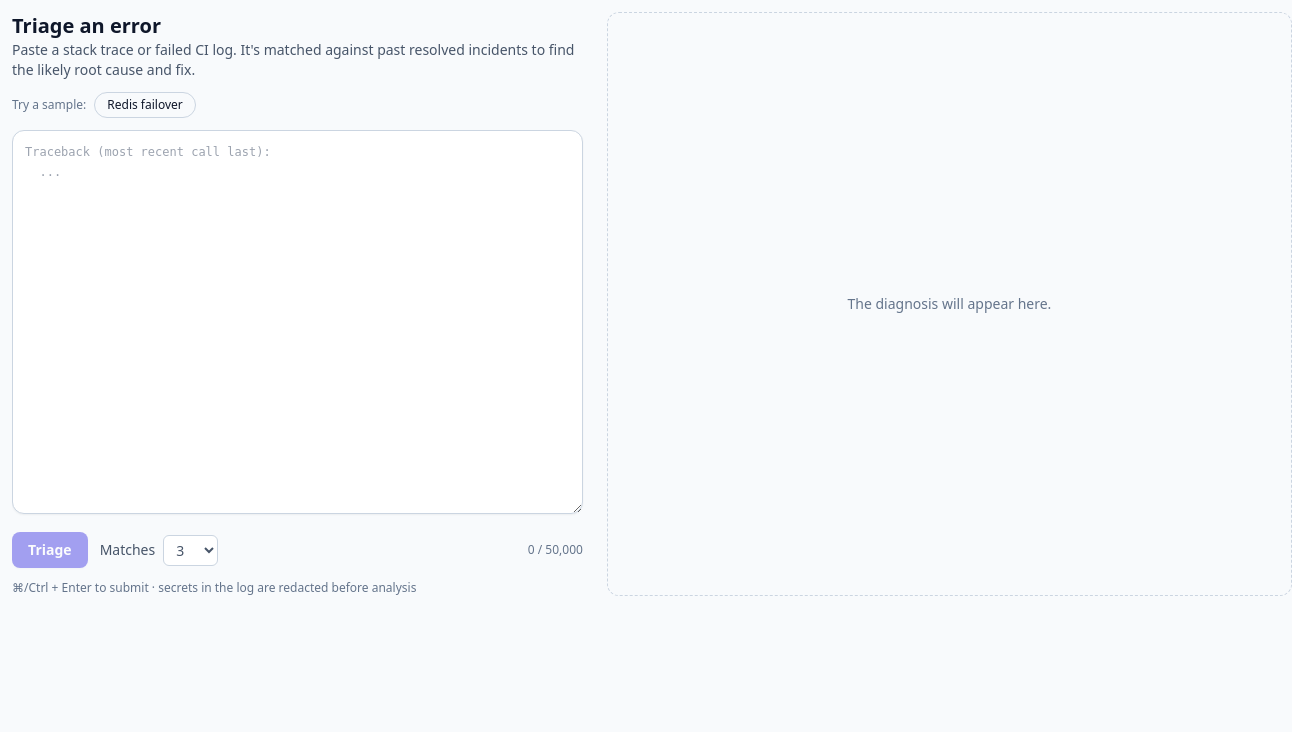
Test: TriagePage › fills the box from a sample and shows the result
The width and height of the screenshot is (1292, 732).
Later steps or results of the test are not shown.
Click the button "Redis failover" at (145, 105), box [94,92,196,118]
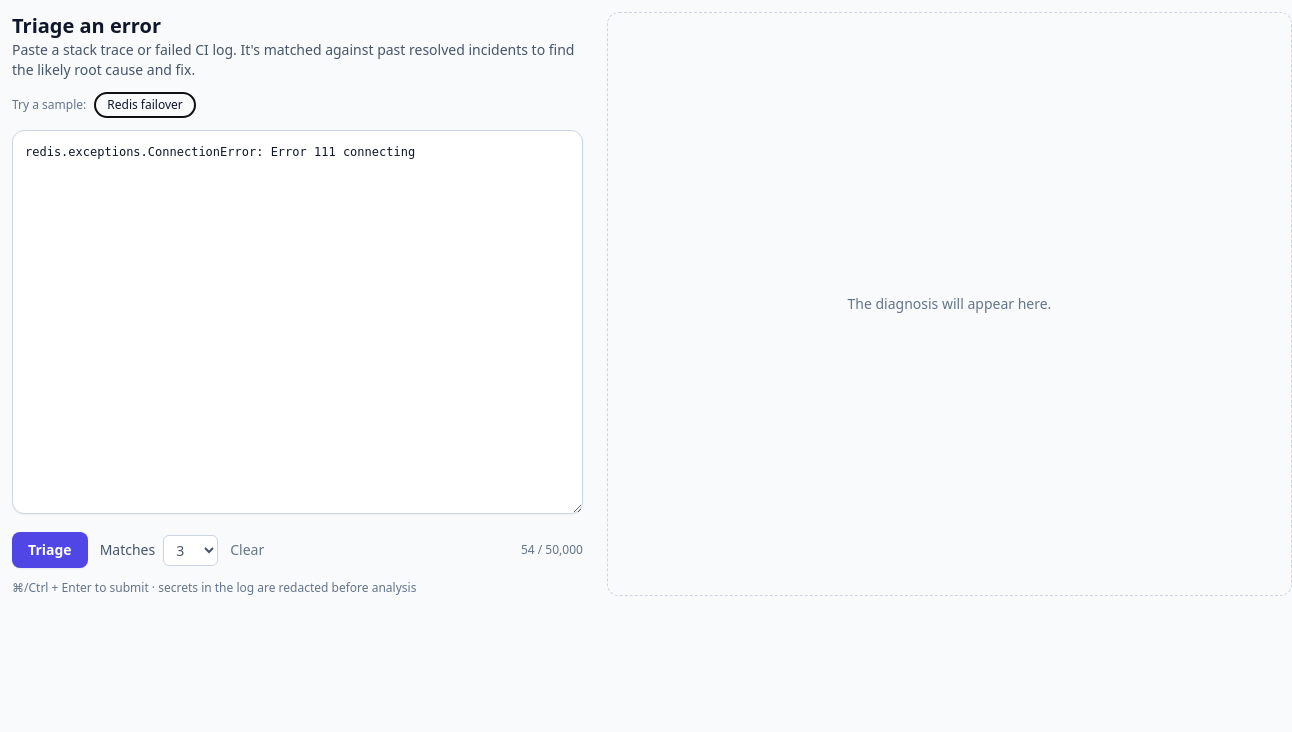
Expected: the text box holds "redis.exceptions.ConnectionError: Error 111 connecting", [12,130,583,514]
